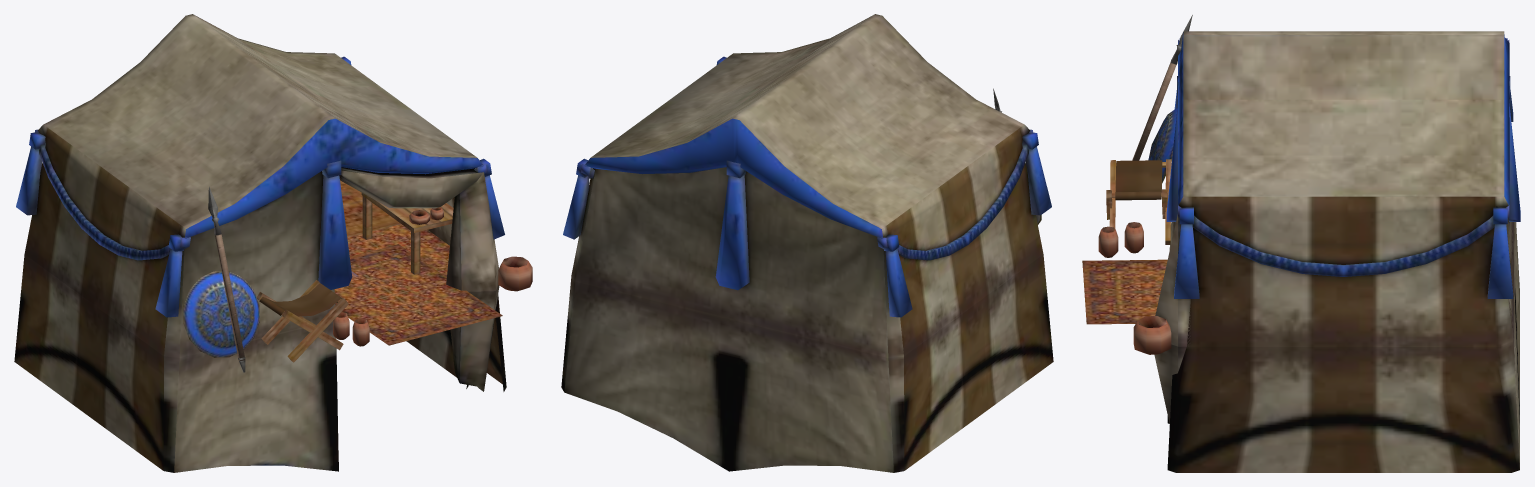
File: structures-tent-greek.glb
The picture shows the model from 3 angles, left to right: view 1: azimuth 30°, elevation 25°; view 2: azimuth 150°, elevation 25°; view 3: azimuth 270°, elevation 25°; orthographic projection. The views are drawn at different scales.
Visible parts, largest first — view 1: Cube.000, Cube_025; view 2: Cube.000; view 3: Cube.000, Cube_025.
Boxes of the visible parts, box(x1,y1,x2,y2) form: Cube.000: box(14, 14, 532, 472); Cube_025: box(183, 180, 502, 372); Cube.000: box(561, 14, 1053, 472); Cube.000: box(1098, 31, 1520, 472); Cube_025: box(1082, 15, 1192, 324).
Size of the model in its own units: 3.42 by 3.2 by 3.25.
2 materials, 2 textured.
